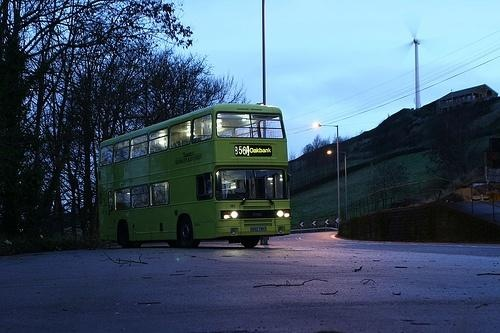bus: (98, 105, 295, 249)
